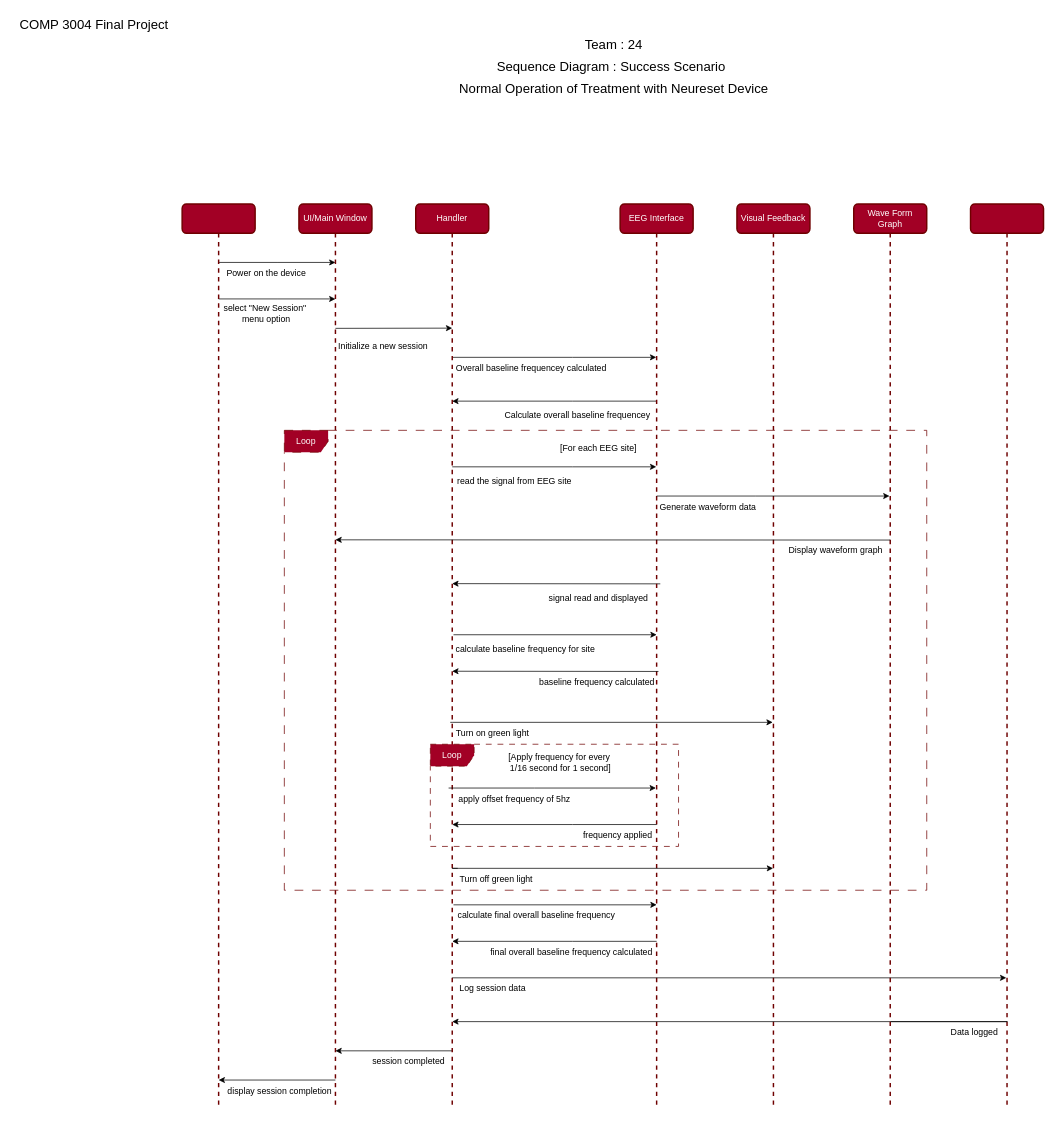
Image size: 1056x1122. Some labels were removed from this diagram. Each missing label, with the box of its shape:
Session Log: (969, 203, 1044, 1110)
User: (181, 203, 256, 1110)
